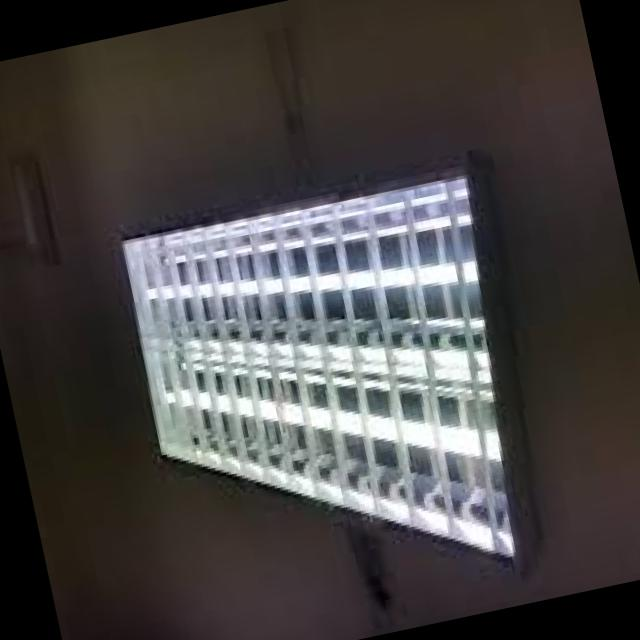light: (116, 150, 535, 568)
